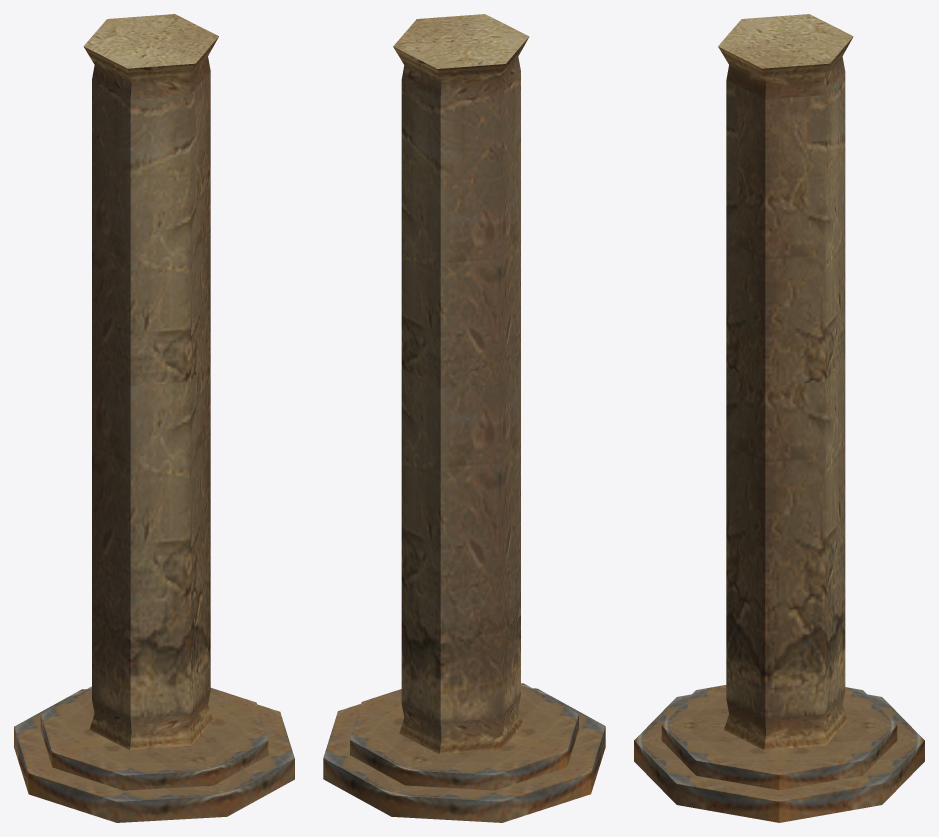
The model's file is yw_huxiaoshamo_zhuzi02.FBX.
3 views of the same model, side by side, from view 1: azimuth 30°, elevation 25°; view 2: azimuth 150°, elevation 25°; view 3: azimuth 270°, elevation 25° (orthographic).
Parts seen in each view (by area): view 1: yw_huxiaoshamo_zhuzi02; view 2: yw_huxiaoshamo_zhuzi02; view 3: yw_huxiaoshamo_zhuzi02.
Boxes of the visible parts, box(x1,y1,x2,y2) form: yw_huxiaoshamo_zhuzi02: box(14, 14, 294, 822); yw_huxiaoshamo_zhuzi02: box(323, 14, 605, 822); yw_huxiaoshamo_zhuzi02: box(634, 14, 924, 822).
Size of the model in its own units: 191 by 523 by 191.
